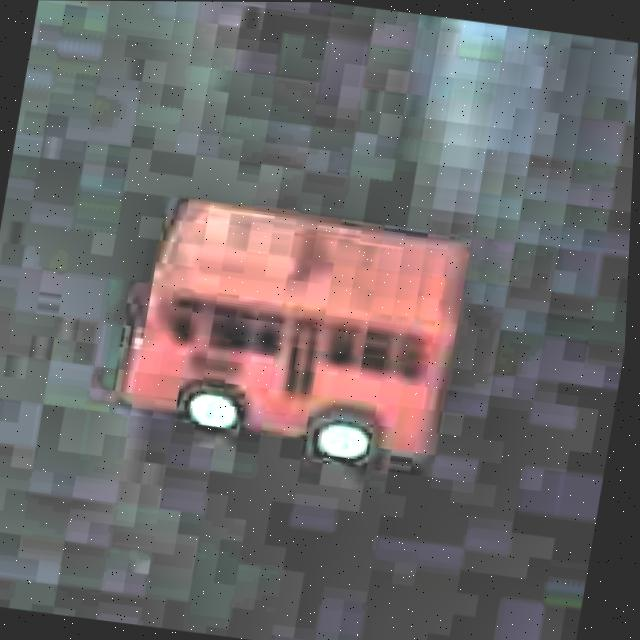bus: (98, 175, 481, 491)
